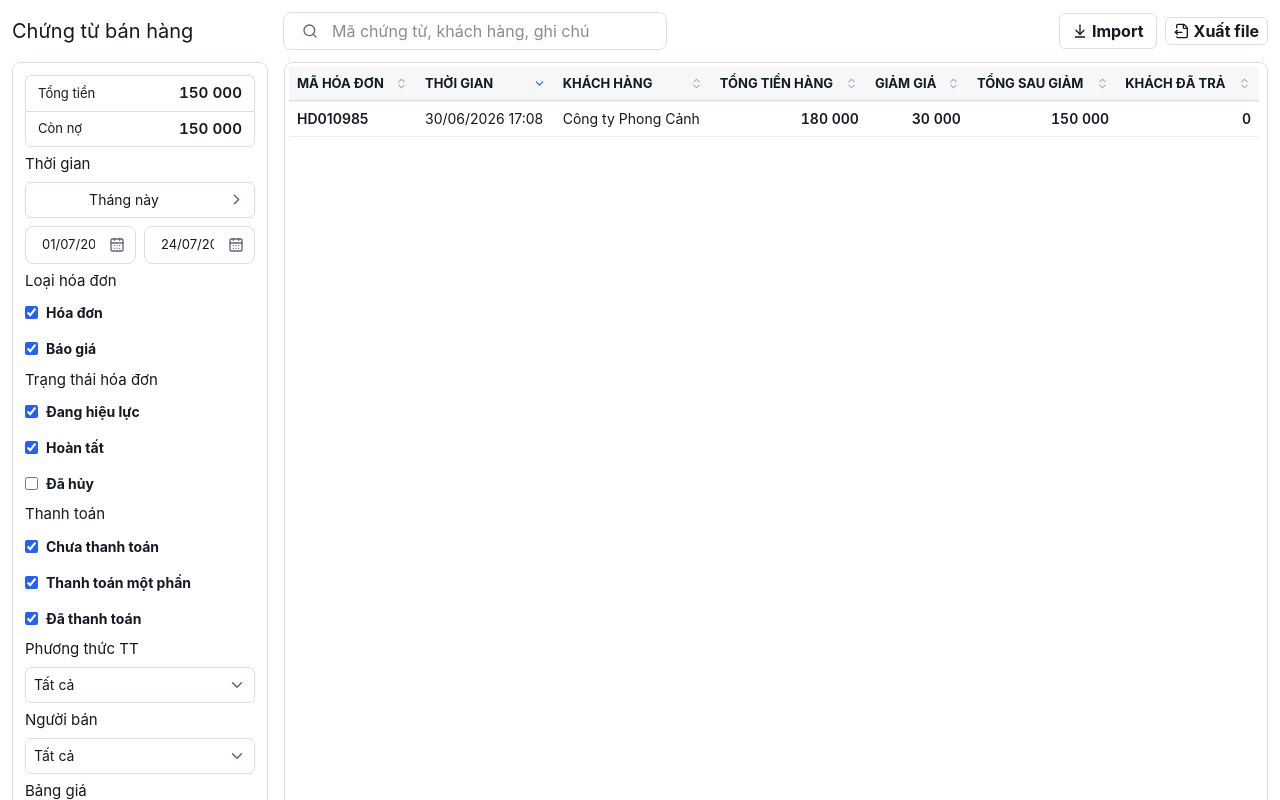
saves invoice created time from the quick detail field
Click the text "HD010985" at (774, 119), box [289,101,1259,137]
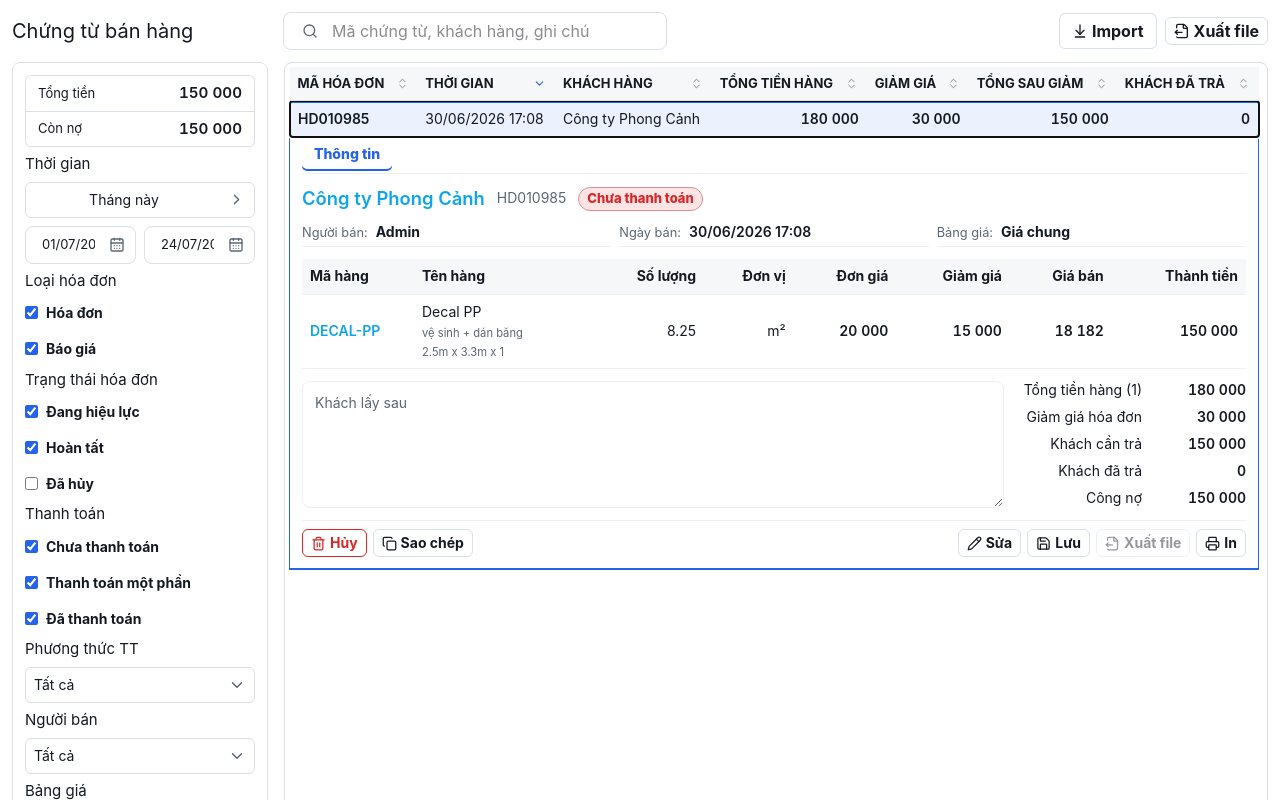
Click the button "30/06/2026 17:08" at (750, 233), box [689,223,811,242]
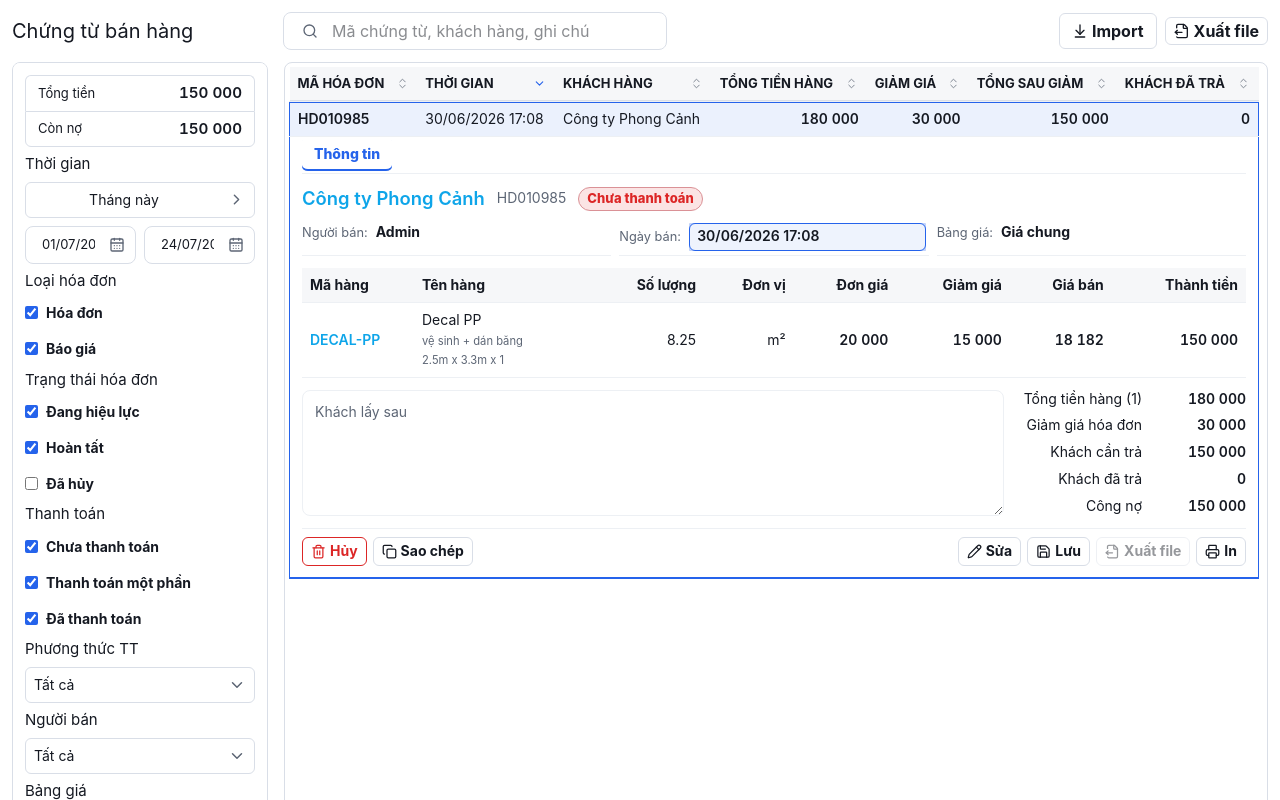
Result: the field with class "management-detail-inline-input" is shown
Result: the field with class "management-detail-inline-input" holds "30/06/2026 17:08"
Replace the text in the field with class "management-detail-inline-input" with "18/07/2026 04:15" at (808, 237), box [689,223,926,251]
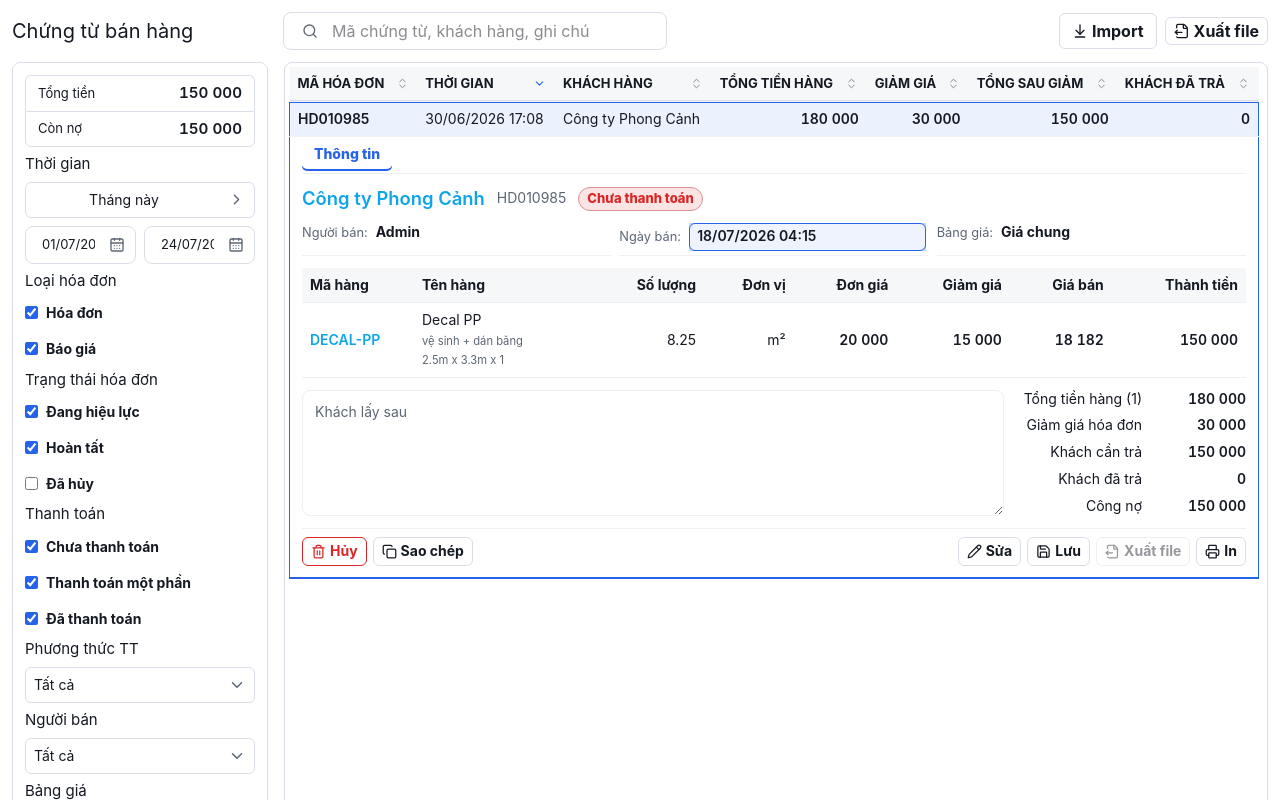
Click the button "Lưu" at (1059, 551), box [1027,537,1090,566]
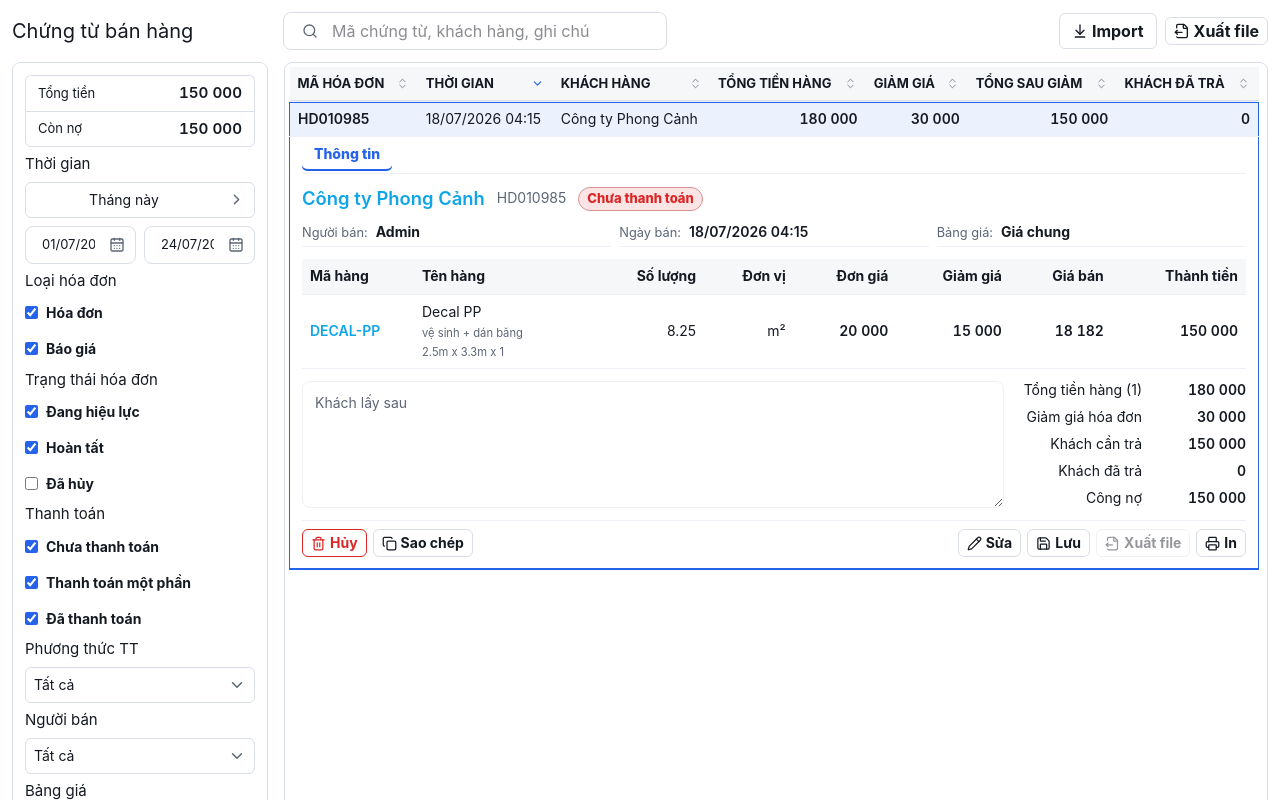
Result: the button "18/07/2026 04:15" is shown at [689,223,808,242]
